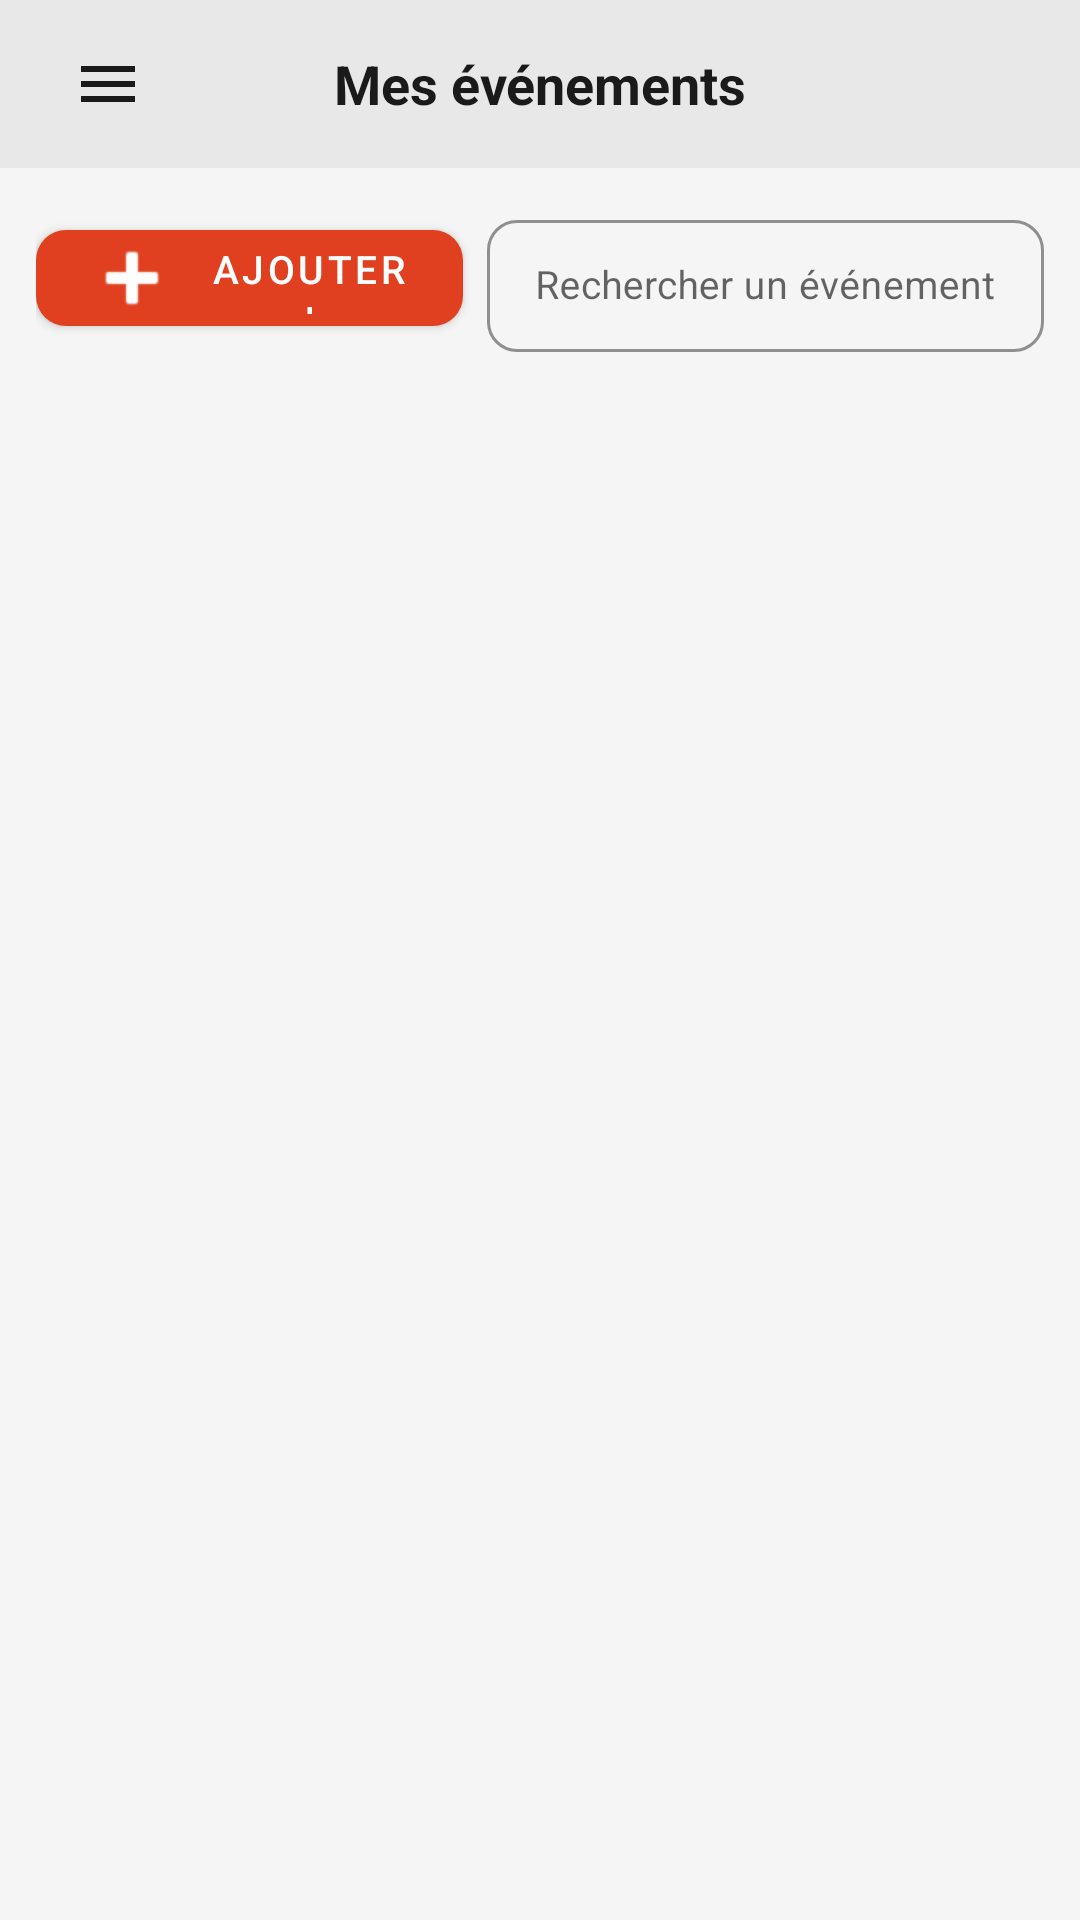

Where to tap for icons on this 1080px x 1920px app screen, as (x,y):
Menu: (108,84)
